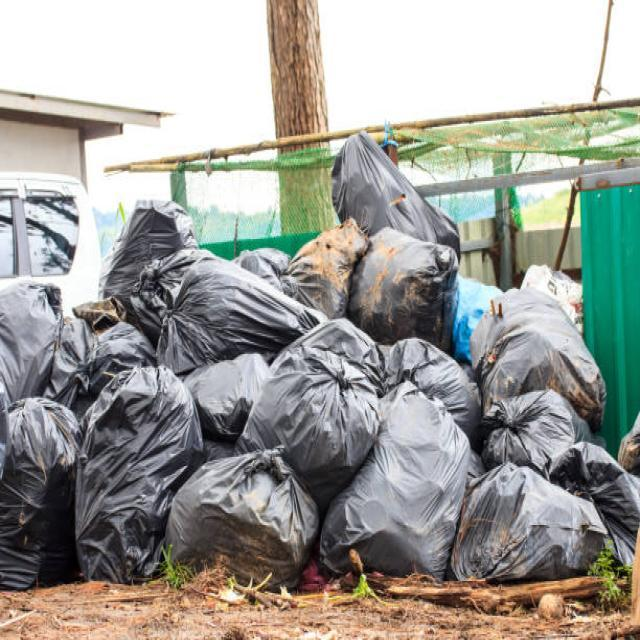Trashbag: (311, 411, 469, 566), (78, 388, 190, 577), (171, 455, 317, 583), (453, 467, 600, 577), (266, 330, 385, 464), (472, 290, 602, 404), (168, 264, 314, 364), (331, 144, 463, 250), (0, 412, 82, 575), (352, 233, 456, 345), (98, 201, 191, 302), (378, 342, 491, 418), (50, 320, 150, 400), (184, 351, 273, 440), (488, 398, 585, 474), (0, 295, 62, 387)
